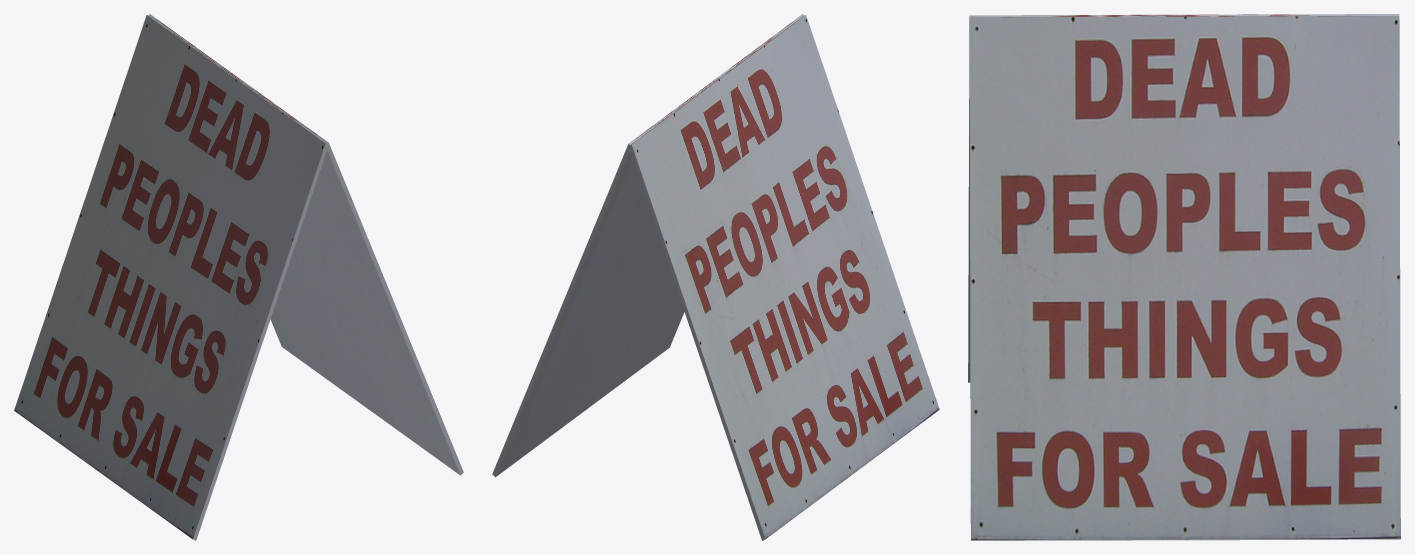
The model's file is sandwichBoard.fbx.
3 renders of one model, left to right at view 1: azimuth 30°, elevation 25°; view 2: azimuth 150°, elevation 25°; view 3: azimuth 270°, elevation 25°, orthographic. The views are drawn at different scales.
Parts seen in each view (by area): view 1: sign0; view 2: sign0; view 3: sign0.
Part boxes in pixels (bbox=[...]): sign0: bbox=[14, 14, 463, 540]; sign0: bbox=[492, 14, 939, 540]; sign0: bbox=[968, 14, 1400, 540].
Bounding box in the file's own units: 1.25 × 1.6 × 1.41.
